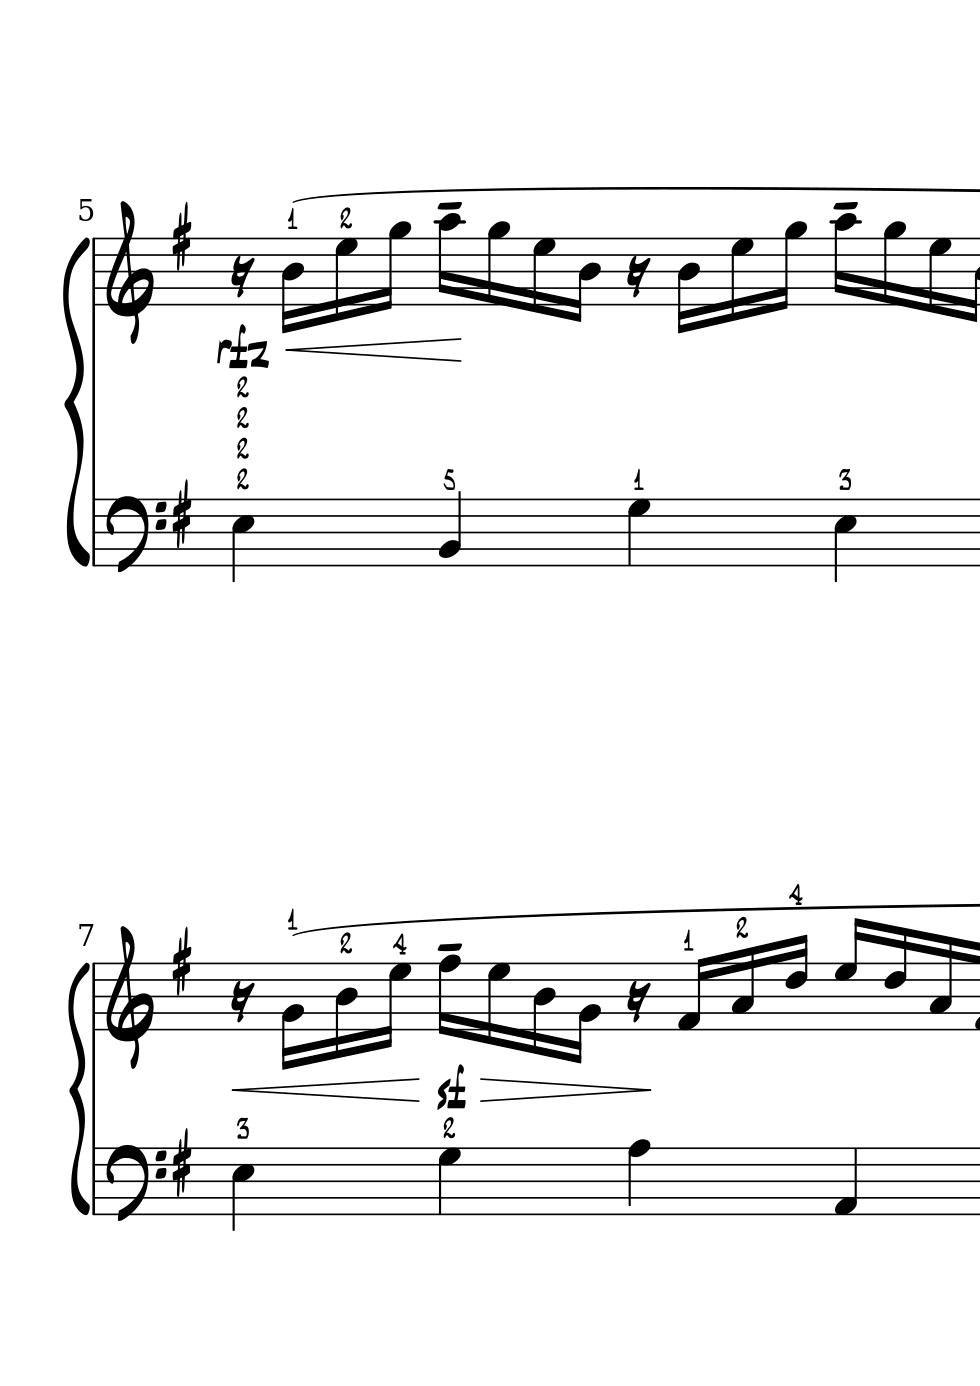1: (681, 929, 696, 955), (284, 207, 300, 230), (285, 907, 298, 932), (631, 468, 645, 491)
16_1: (673, 957, 708, 1033)
16_10: (435, 211, 463, 308), (832, 211, 858, 308)
16_2: (568, 960, 600, 1065), (280, 961, 305, 1069)
16_3: (926, 934, 953, 1032), (729, 945, 755, 1032)
16_4: (571, 235, 601, 324), (673, 235, 700, 336), (333, 962, 358, 1060), (530, 961, 556, 1058), (279, 236, 304, 333)
16_6: (882, 923, 910, 1034), (784, 929, 810, 1032)
16_7: (832, 914, 867, 1033), (375, 961, 412, 1050), (332, 234, 358, 324), (485, 959, 510, 1051), (728, 235, 752, 324), (926, 234, 951, 318), (530, 234, 555, 319)
16_8: (436, 954, 460, 1040)
16_9: (377, 220, 412, 311), (773, 220, 806, 312), (485, 220, 509, 308), (880, 220, 904, 308)
2: (232, 435, 257, 457), (233, 374, 253, 400), (338, 205, 356, 232), (233, 406, 253, 429), (442, 1113, 458, 1142), (235, 468, 253, 492), (337, 931, 354, 957), (735, 915, 751, 940)
3: (237, 1116, 253, 1144), (836, 466, 854, 490)
4: (391, 931, 408, 957), (789, 883, 805, 908)
4_1: (832, 1146, 858, 1218)
4_2: (438, 490, 462, 568)
4_5: (229, 1146, 255, 1234), (832, 497, 856, 585), (230, 498, 253, 585)
4_7: (625, 497, 652, 568), (436, 1146, 462, 1216)
4_8: (626, 1137, 650, 1216)
5: (441, 464, 457, 495), (77, 196, 95, 223)
7: (77, 920, 95, 949)
Crescendo_hairpin: (233, 1077, 421, 1106), (286, 337, 463, 364)
Diminuendo_hairpin: (478, 1076, 652, 1102)
Fclef: (104, 1143, 167, 1226), (105, 494, 167, 576)
Gclef: (102, 198, 156, 346), (102, 924, 155, 1071)
Rests16: (624, 979, 650, 1025), (625, 255, 650, 299), (229, 980, 255, 1024), (229, 255, 253, 300)
Sharp: (169, 926, 194, 998), (169, 201, 194, 273), (170, 479, 193, 550), (170, 1128, 193, 1199)
Single_barline: (88, 499, 101, 565), (88, 964, 101, 1030), (88, 1150, 101, 1213), (89, 239, 101, 306)
Slur: (63, 239, 90, 568), (65, 957, 89, 1214)
rfz: (211, 322, 270, 372)
sf: (436, 1065, 466, 1111)
